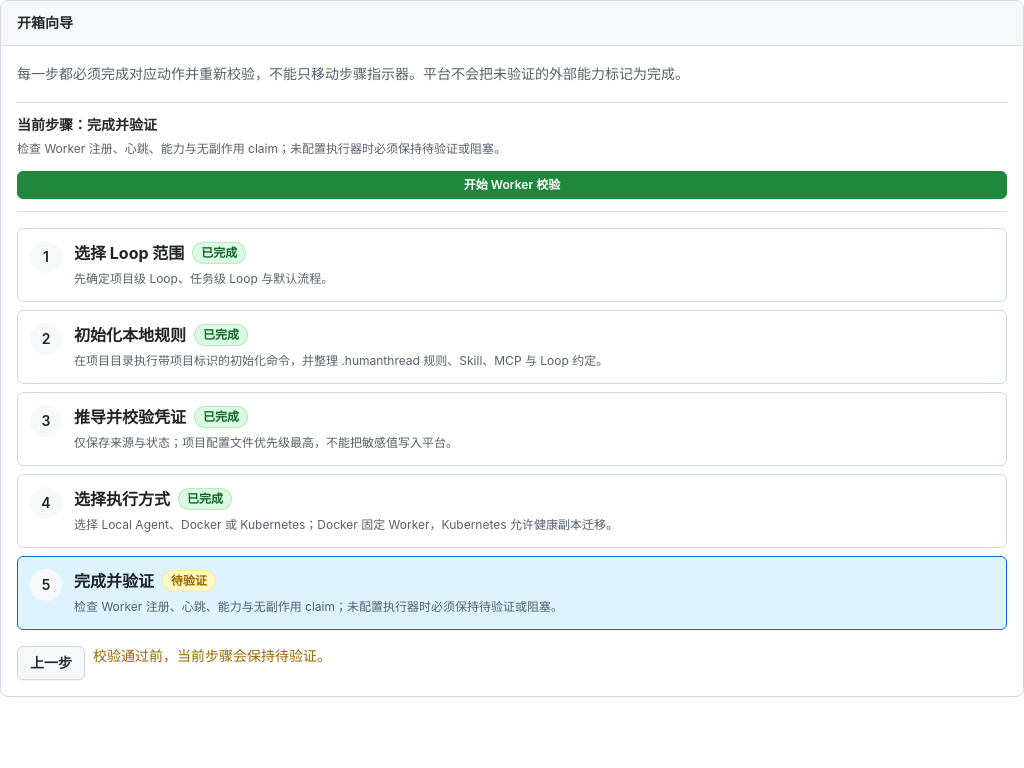
Scenario: 项目开箱向导 › starts worker validation and immediately displays the real per-check report
Expected: the text "当前步骤：完成并验证" is shown, left=17, top=116, right=157, bottom=133
What coordinates should you click on to do the following:
click the button "开始 Worker 校验"
I would click on:
 (512, 185)
Its box is left=17, top=171, right=1007, bottom=199.
(page scrolled)
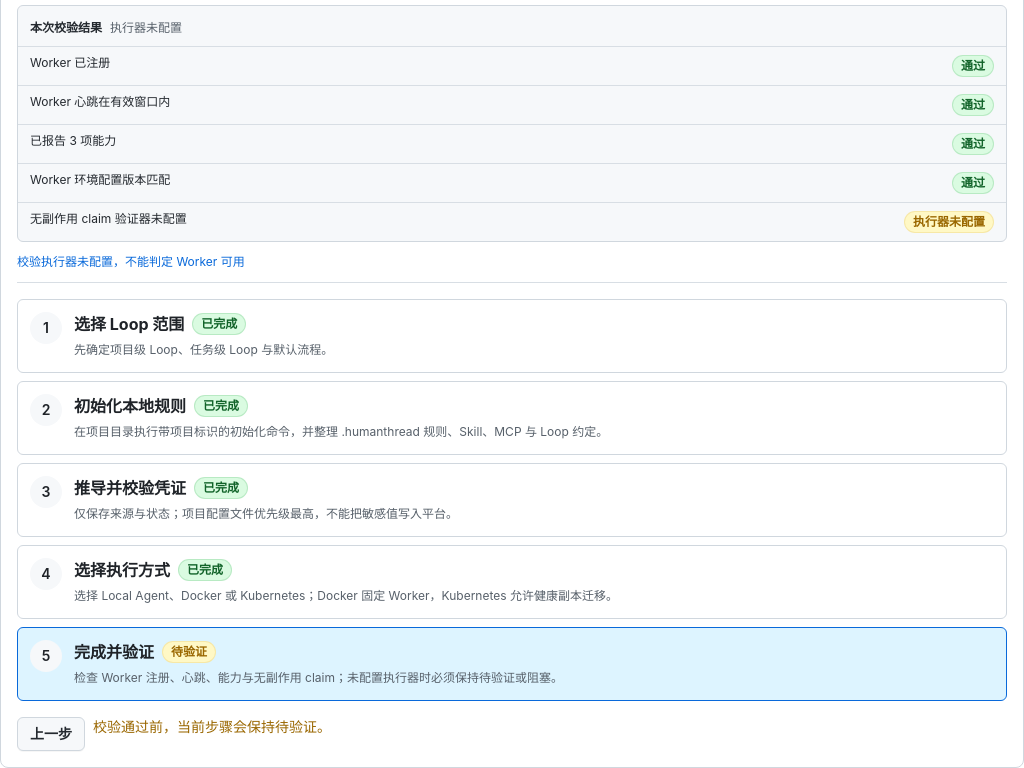
Expected: the text "待验证" is shown, left=162, top=641, right=216, bottom=663
Expected: the text "无副作用 claim 验证器未配置" is shown, left=30, top=211, right=187, bottom=227
Expected: the text "校验执行器未配置，不能判定 Worker 可用" is shown, left=17, top=254, right=245, bottom=269
